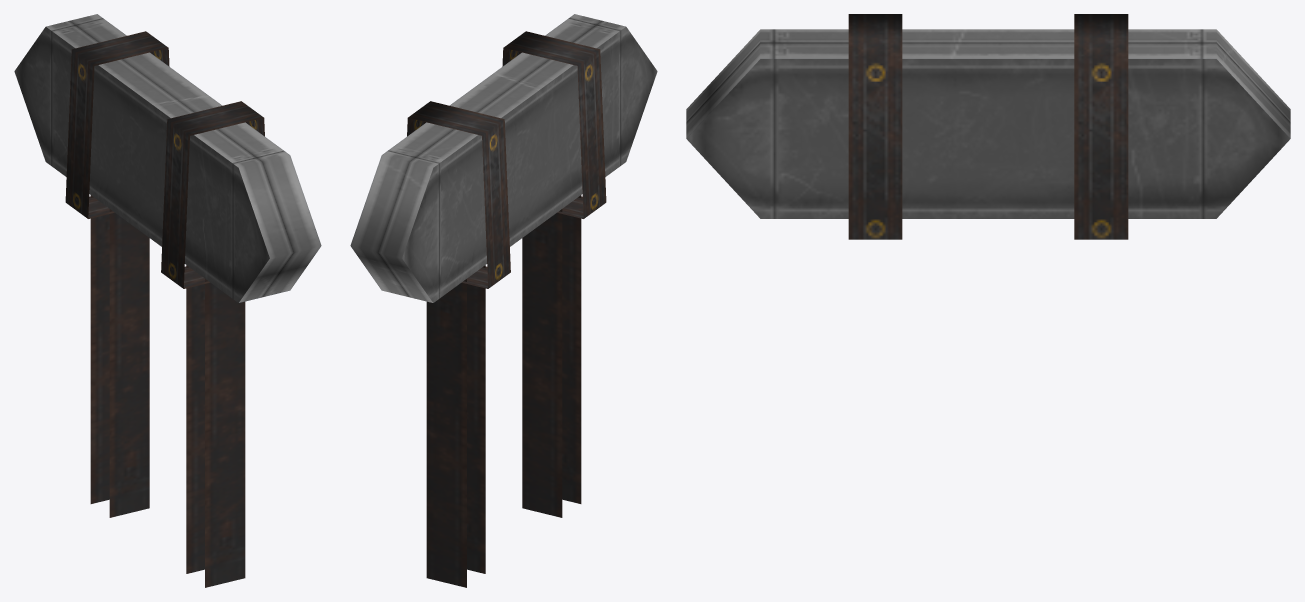
The model's file is Pipe3_Connect1_L2.fbx.
3 views of the same model, side by side, from view 1: azimuth 30°, elevation 25°; view 2: azimuth 150°, elevation 25°; view 3: azimuth 270°, elevation 25° (orthographic). The views are drawn at different scales.
Parts seen in each view (by area): view 1: PIpe3_Connect1_L2; view 2: PIpe3_Connect1_L2; view 3: PIpe3_Connect1_L2.
Part boxes in pixels (x1,y1,x2,y2): PIpe3_Connect1_L2: (14, 14, 321, 587); PIpe3_Connect1_L2: (350, 14, 657, 587); PIpe3_Connect1_L2: (686, 14, 1290, 239).
Bounding box in the file's own units: 8.72 × 44.05 × 44.59.
